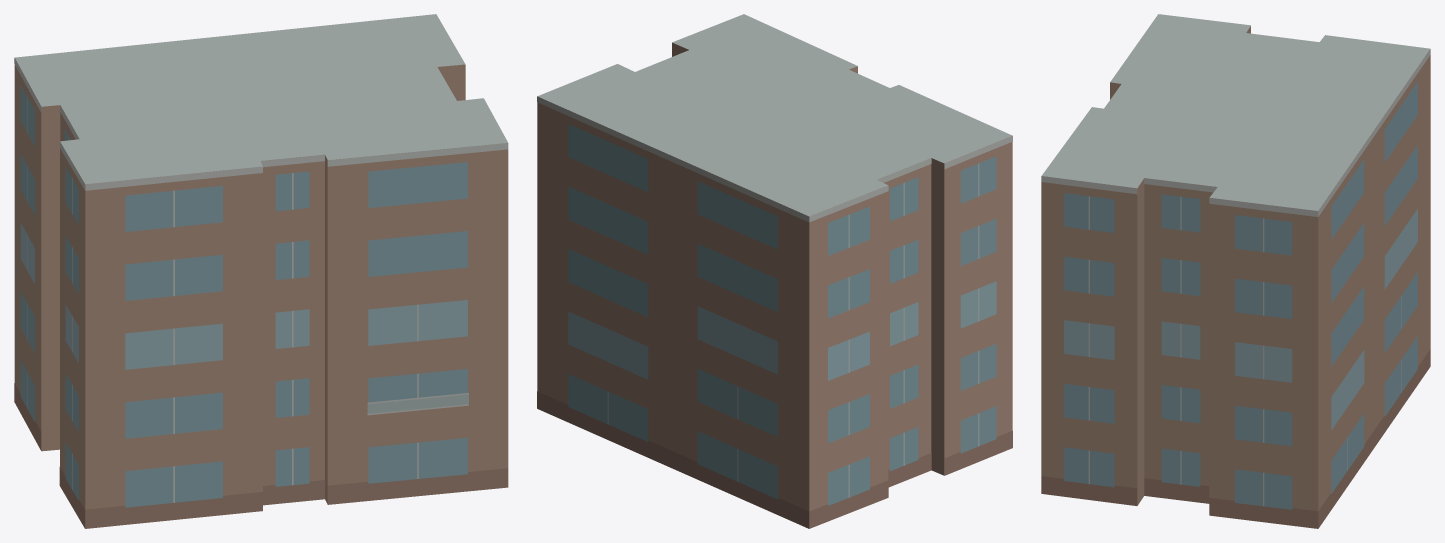
Rendered from survey-upis-32877555.glb.
The picture shows the model from 3 angles, left to right: view 1: azimuth 30°, elevation 25°; view 2: azimuth 150°, elevation 25°; view 3: azimuth 270°, elevation 25°; orthographic projection. The views are drawn at different scales.
Visible parts, largest first — view 1: survey-upis-32877555.tmp; view 2: survey-upis-32877555.tmp; view 3: survey-upis-32877555.tmp.
Boxes of the visible parts, x1,y1,x2,y2 form: survey-upis-32877555.tmp: (14, 14, 508, 528); survey-upis-32877555.tmp: (537, 14, 1012, 528); survey-upis-32877555.tmp: (1041, 14, 1430, 528).
Size of the model in its own units: 17.16 by 12.9 by 14.32.
